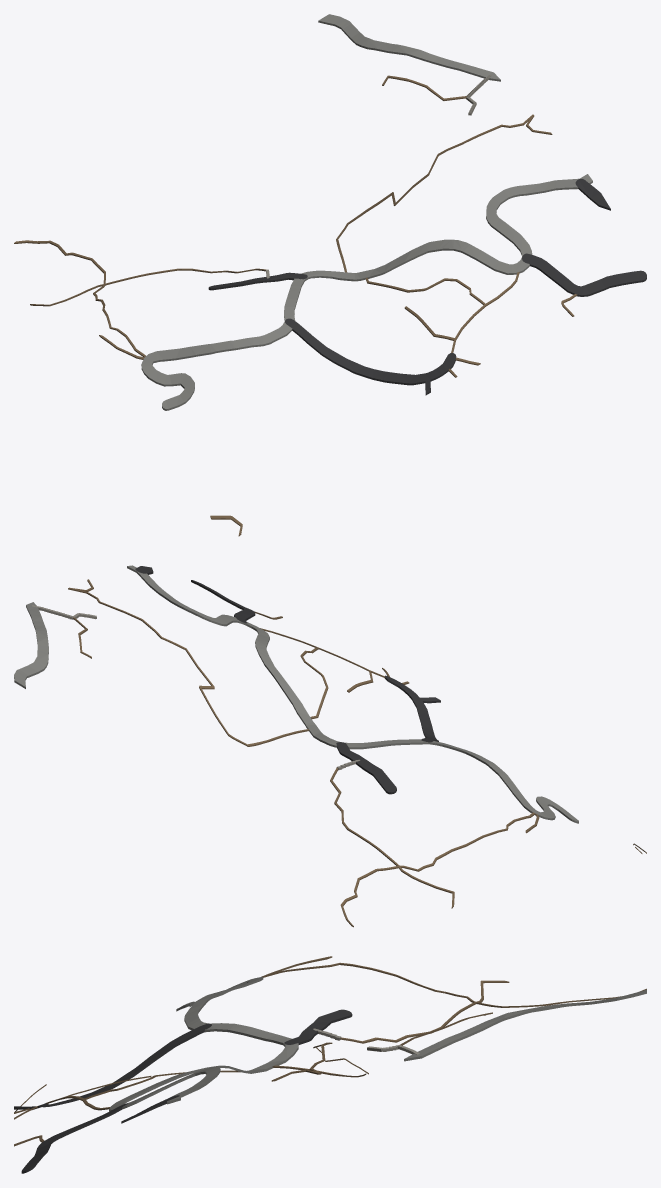
Rendered from 17-109432-59490.b0bff346.glb.
3 renders of one model, top to bottom at view 1: azimuth 30°, elevation 25°; view 2: azimuth 150°, elevation 25°; view 3: azimuth 270°, elevation 25°, orthographic. The views are drawn at different scales.
Bounding box in the file's own units: 293 × 170 × 292.
